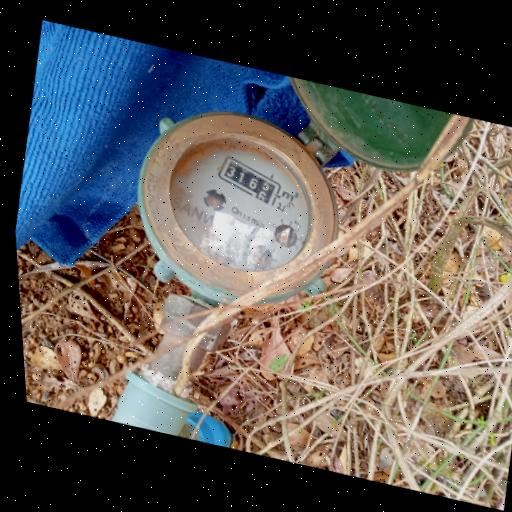1: (234, 166, 255, 190)
3: (222, 159, 244, 183)
5: (253, 177, 278, 205)
6: (244, 173, 265, 195)
border_water_meter_number: (211, 152, 287, 209)
